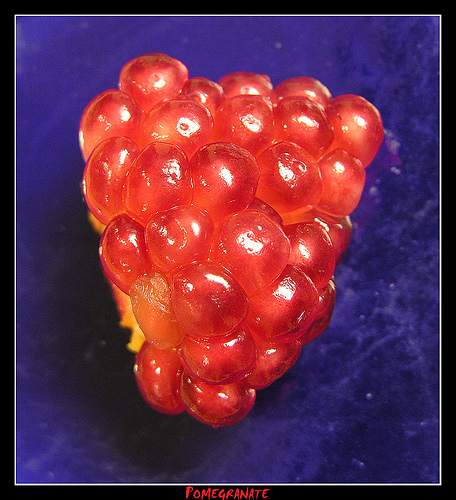pomogranate: (73, 50, 388, 433)
